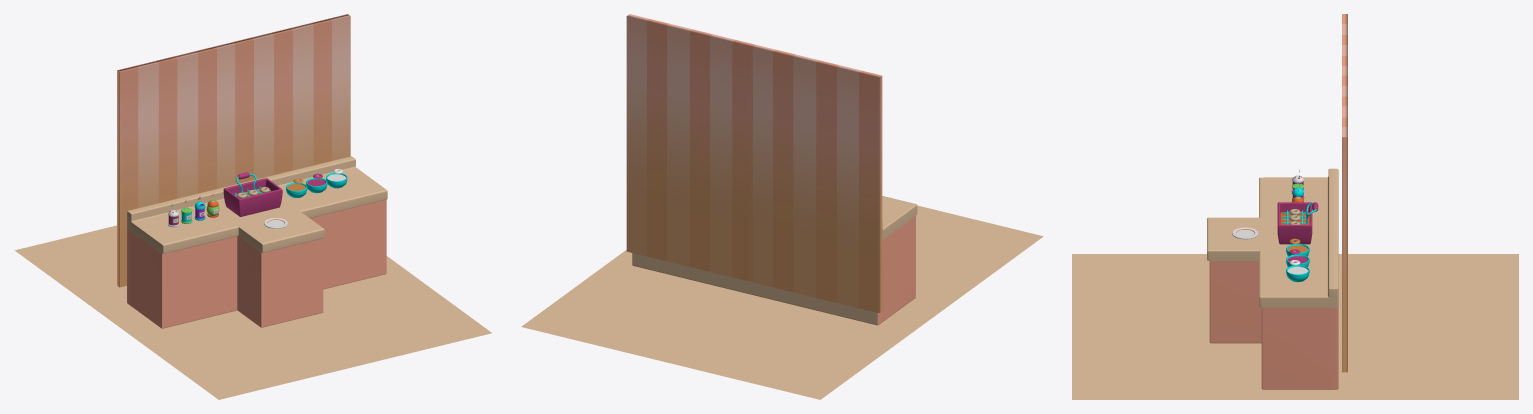
File: donut_scene.fbx
3 renders of one model, left to right at view 1: azimuth 30°, elevation 25°; view 2: azimuth 150°, elevation 25°; view 3: azimuth 270°, elevation 25°, orthographic. The views are drawn at different scales.
Visible parts, largest first — view 1: donuts_wall, donut_floor, donut_counter, donut_table, donut_container; view 2: donuts_wall, donut_floor, donut_counter; view 3: donut_floor, donut_counter, donut_table, donuts_wall, donut_container.
Part boxes in pixels (x1,y1,x2,y2): donuts_wall: [117, 14, 350, 287]; donut_floor: [15, 225, 491, 399]; donut_counter: [127, 156, 387, 328]; donut_table: [237, 198, 324, 327]; donut_container: [223, 178, 282, 216]; donuts_wall: [626, 14, 882, 313]; donut_floor: [521, 205, 1043, 399]; donut_counter: [632, 196, 917, 325]; donut_floor: [1072, 254, 1518, 399]; donut_counter: [1259, 168, 1338, 389]; donut_table: [1207, 217, 1309, 343]; donuts_wall: [1342, 14, 1347, 372]; donut_container: [1277, 202, 1312, 244].
Size of the model in its own units: 22.95 by 18.56 by 29.68.
Materials: 11 (2 with a texture image).
